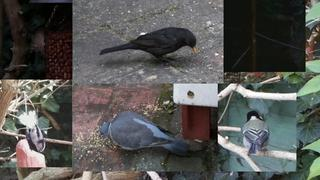blackbird: (99, 27, 197, 65)
great tit: (242, 110, 270, 157)
long tailed tit: (30, 106, 46, 153)
mouse: (30, 27, 46, 57)
wood pigeon: (99, 110, 191, 157)
